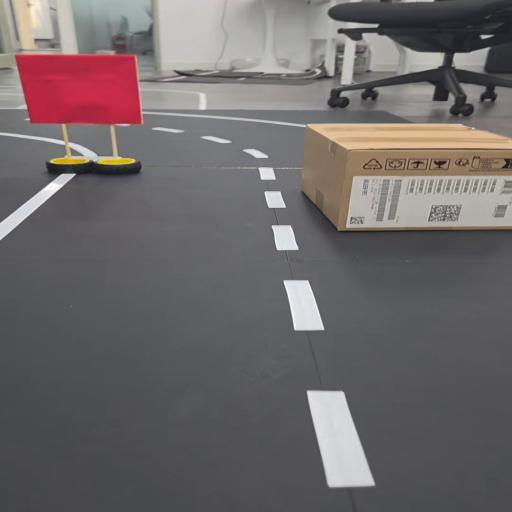Box: (281, 118, 512, 238)
Sign_A: (22, 51, 160, 178)
